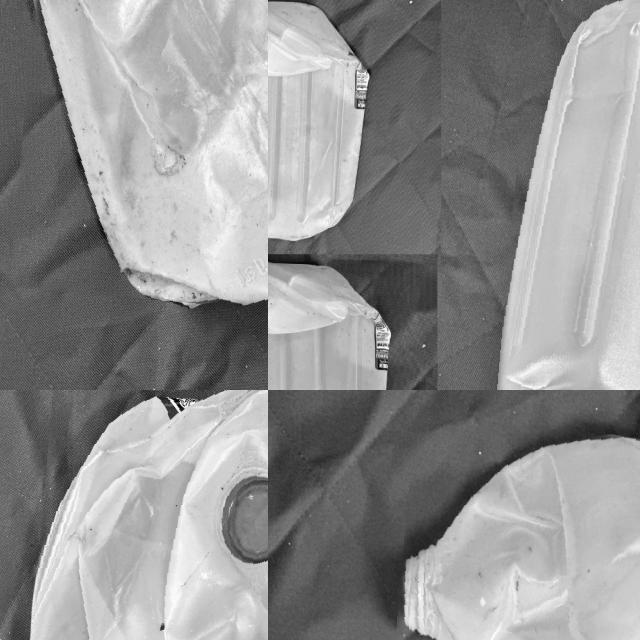milk-jug: (21, 0, 268, 310), (24, 390, 268, 640), (496, 0, 640, 390), (392, 425, 640, 640), (268, 0, 380, 253), (268, 261, 391, 390)
